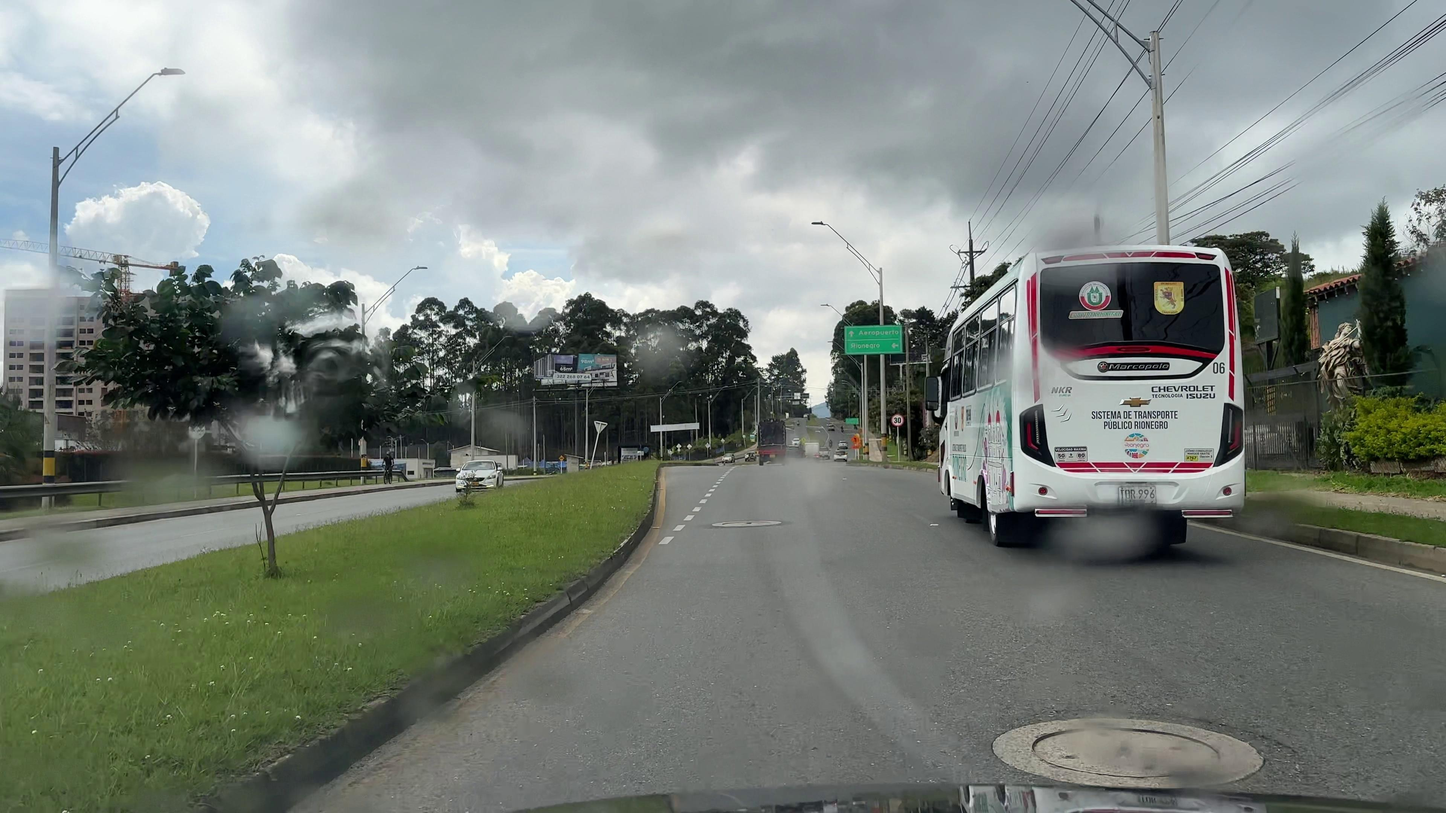registro: (1032, 727, 1219, 778), (722, 522, 771, 525)
